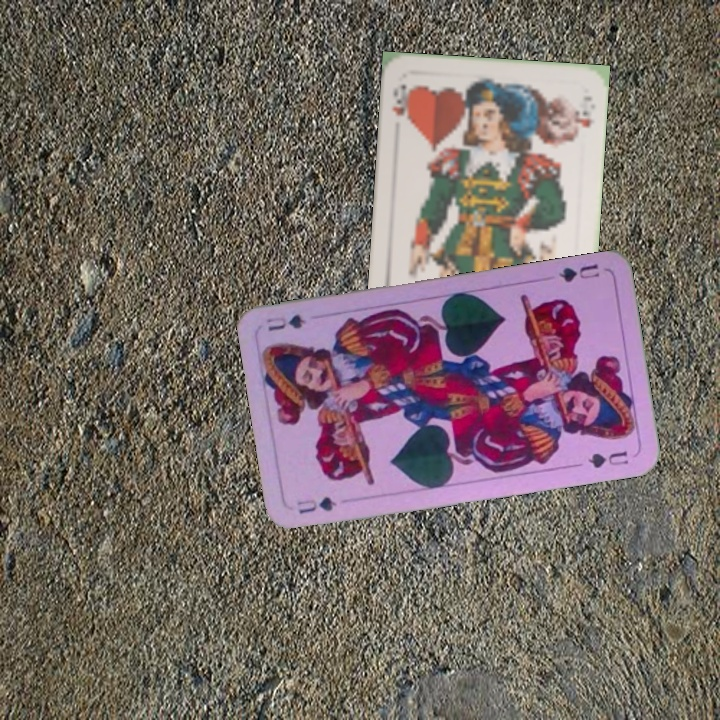GU: (555, 260, 603, 285), (293, 492, 340, 517)
HO: (389, 80, 414, 128)
